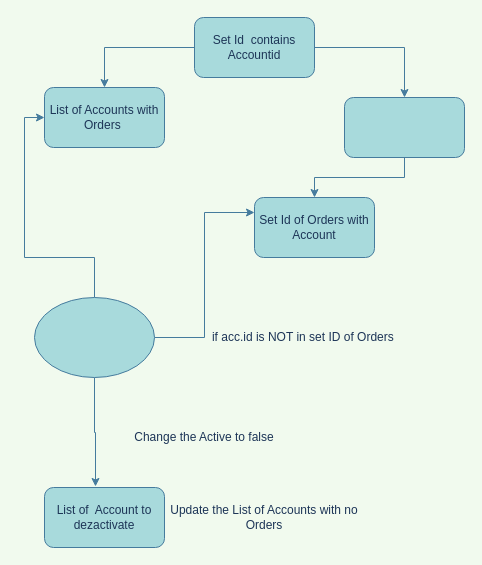
The diagram is 482 pixels wide and 565 high, and some of its shapes have lost their labels. The centre of each missing label's shape, as x and y in pixels:
"for Loop in List of Accounts" belongs at point (94, 337).
"List of Orders with Accounts" belongs at point (404, 127).
